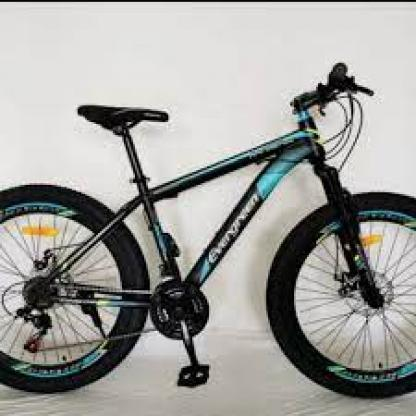Bike: (12, 56, 416, 399)
